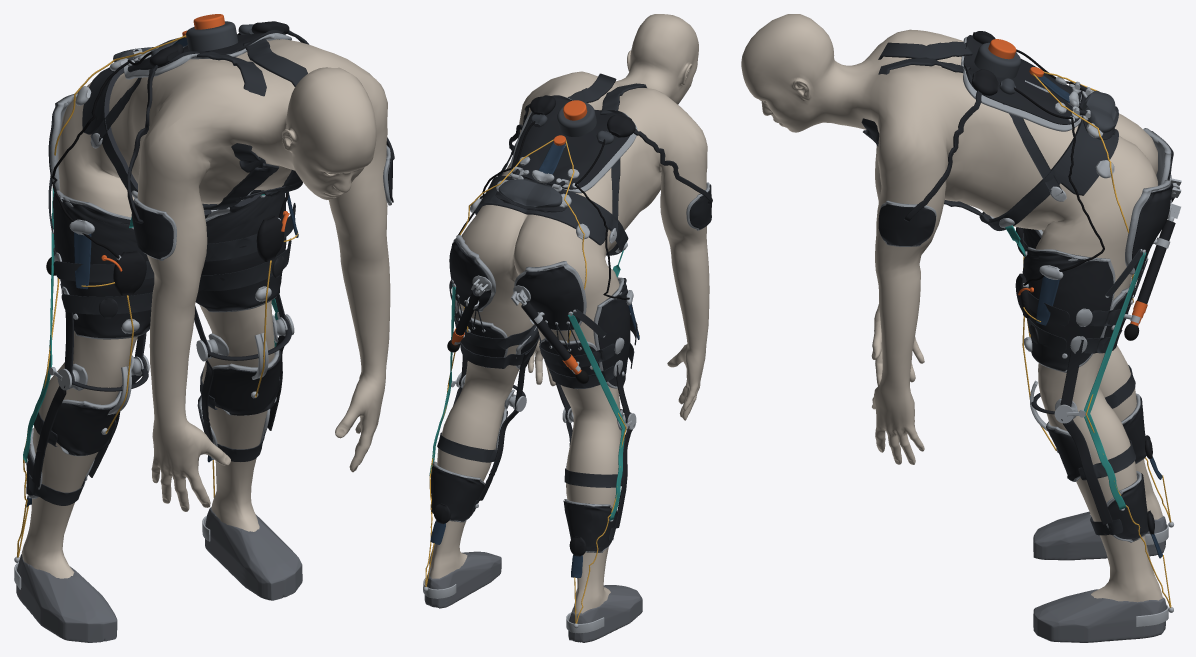
File: sitka_stoop.glb
The picture shows the model from 3 angles, left to right: view 1: azimuth 30°, elevation 25°; view 2: azimuth 150°, elevation 25°; view 3: azimuth 270°, elevation 25°; orthographic projection. The views are drawn at different scales.
Parts seen in each view (by area): view 1: body_stoop, thigh_shell_r, shoe_r, shoe_l, thigh_shell_l, ptb_shell_l, harness_r, ptb_shell_r, hip_belt, harness_l, m5_armcuff_r, thigh_strap1_l (+17 smaller); view 2: body_stoop, back_panel, seat_cup_r, hip_belt, shoe_r, shoe_l, calf_cuff_l, thigh_shell_r, calf_cuff_r, p1_battery, seat_cup_l, hamstring_band_r (+27 smaller); view 3: body_stoop, thigh_shell_l, shoe_l, hip_belt, shoe_r, back_panel, m5_armcuff_l, hamstring_band_l, seat_cup_l, calf_cuff_l, harness_r, shin_arm_lat_l (+16 smaller).
Part boxes in pixels (x1,y1,x2,y2): body_stoop: (21,39,390,578); thigh_shell_r: (53,193,154,337); shoe_r: (16,554,117,642); shoe_l: (205,507,302,600); thigh_shell_l: (195,193,286,311); ptb_shell_l: (206,350,281,415); harness_r: (196,51,279,209); ptb_shell_r: (51,403,116,455); hip_belt: (82,67,262,218); harness_l: (243,38,307,198); m5_armcuff_r: (131,201,173,259); thigh_strap1_l: (198,238,291,291); body_stoop: (429,14,709,613); back_panel: (512,95,629,189); seat_cup_r: (516,266,583,330); hip_belt: (475,176,628,255); shoe_r: (568,585,642,642); shoe_l: (424,551,501,608); calf_cuff_l: (431,463,484,521); thigh_shell_r: (540,278,630,386); calf_cuff_r: (563,500,618,551); p1_battery: (498,179,562,208); seat_cup_l: (449,239,491,311); hamstring_band_r: (567,313,625,520); body_stoop: (741,14,1162,602); thigh_shell_l: (1022,248,1113,371); shoe_l: (1033,589,1166,642); hip_belt: (979,90,1118,230); shoe_r: (1033,511,1166,560); back_panel: (963,35,1080,124); m5_armcuff_l: (878,203,935,245); hamstring_band_l: (1084,252,1146,509); seat_cup_l: (1132,183,1173,270); calf_cuff_l: (1107,473,1148,540); harness_r: (878,41,972,59); shin_arm_lat_l: (1061,419,1112,524).
Bounding box in the file's own units: 0.582 × 1.39 × 0.9673.
